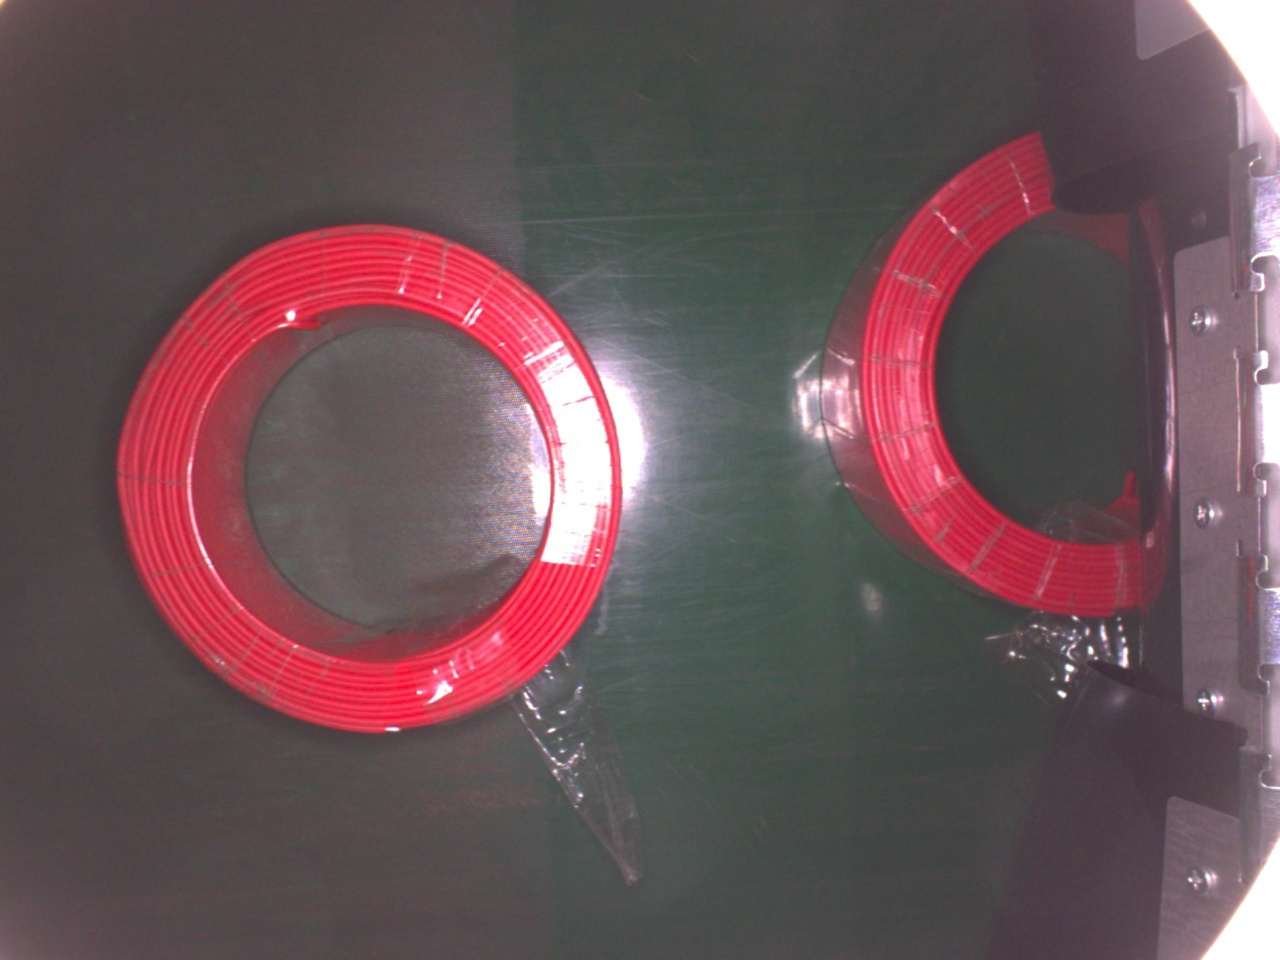red: (115, 220, 620, 738), (819, 127, 1139, 622)
